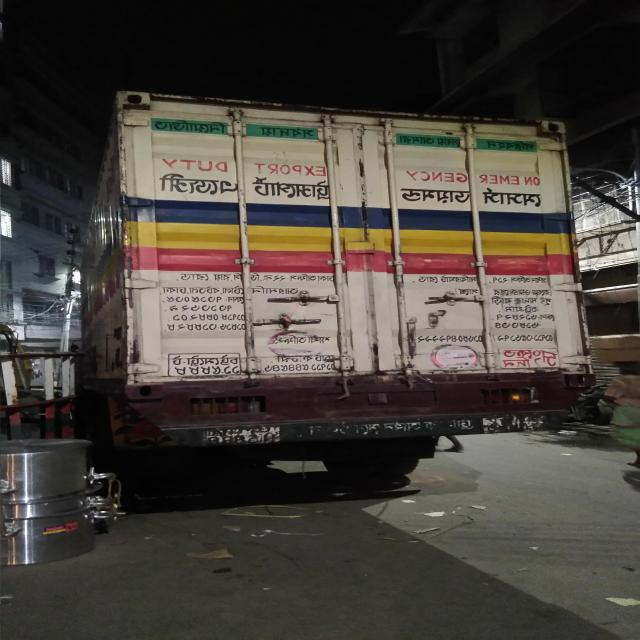pickup-van: (38, 76, 614, 524)
